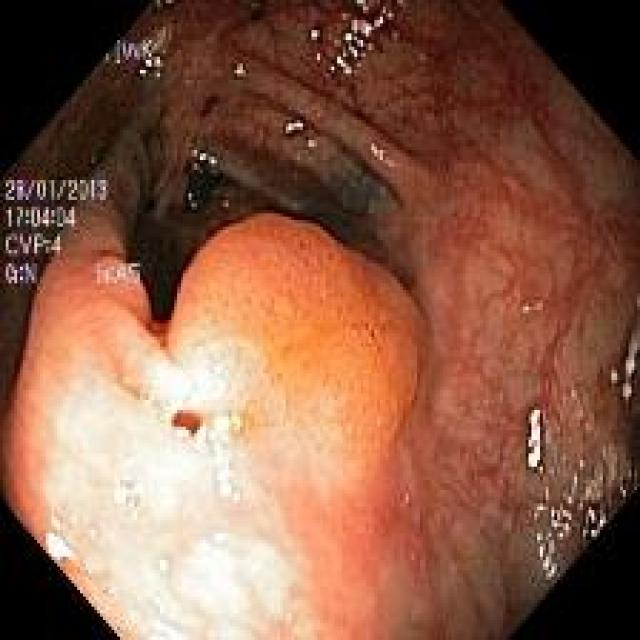Polyps: (6, 206, 435, 637)
